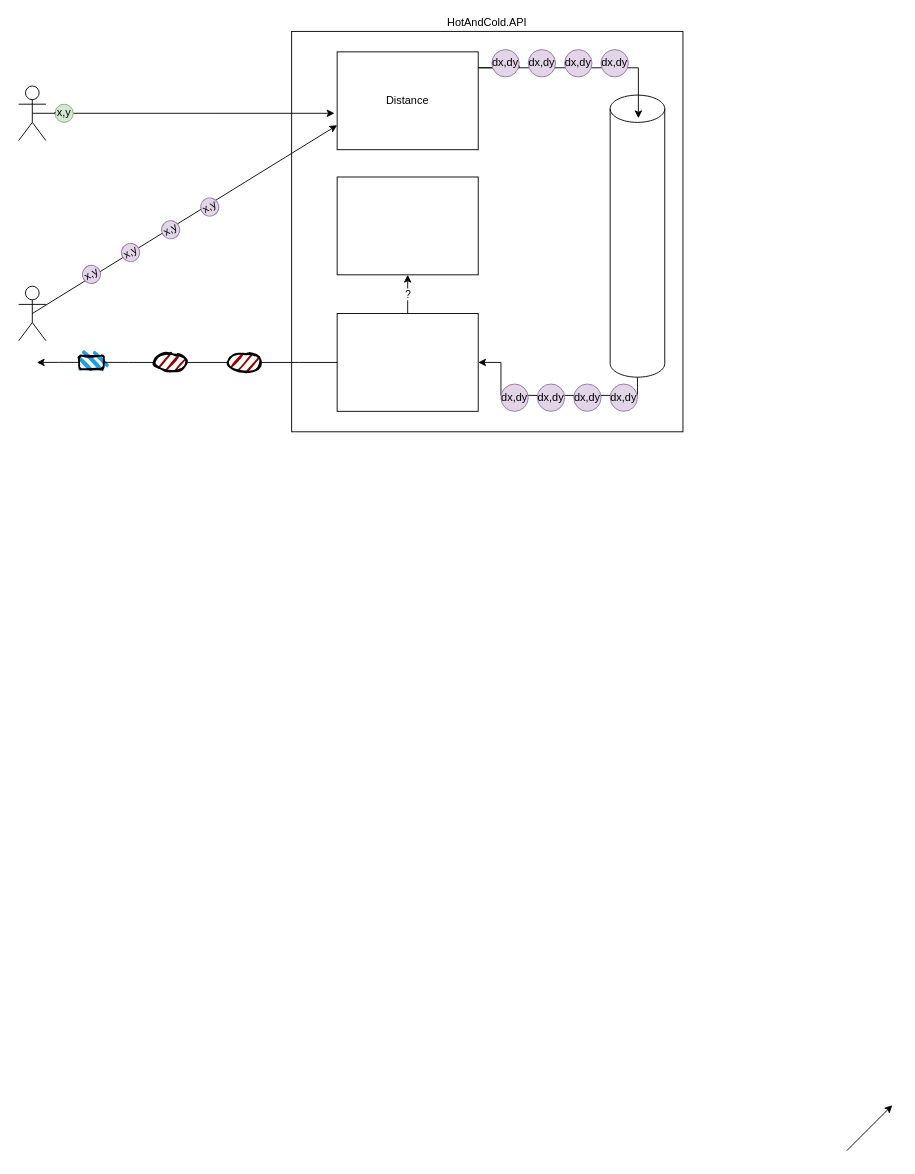
Some shapes in this 915 by 1174 pixel diagram are drawn without their labels. Here are the shapes that lost their labels. From the top down, the centre of each, then its label:
point (32, 113): Prize
point (407, 225): Quiz
point (637, 235): Internal Message Bus
point (32, 313): Hunter
point (407, 362): Notification
